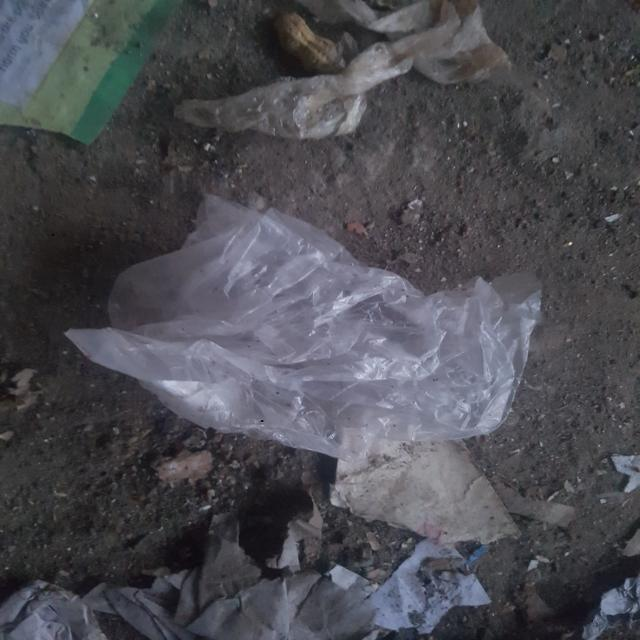general: (63, 193, 544, 463)
